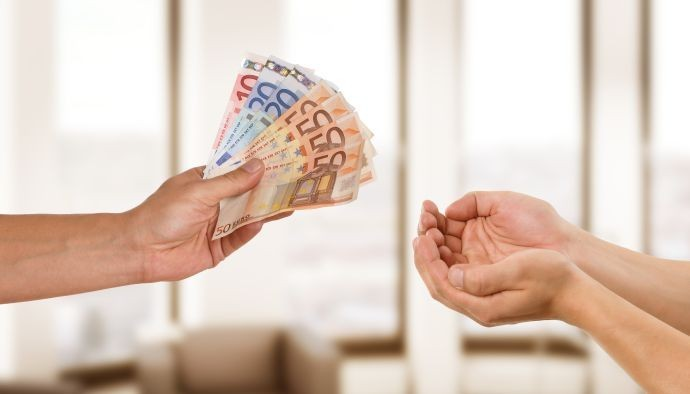billete: (201, 49, 383, 243)
